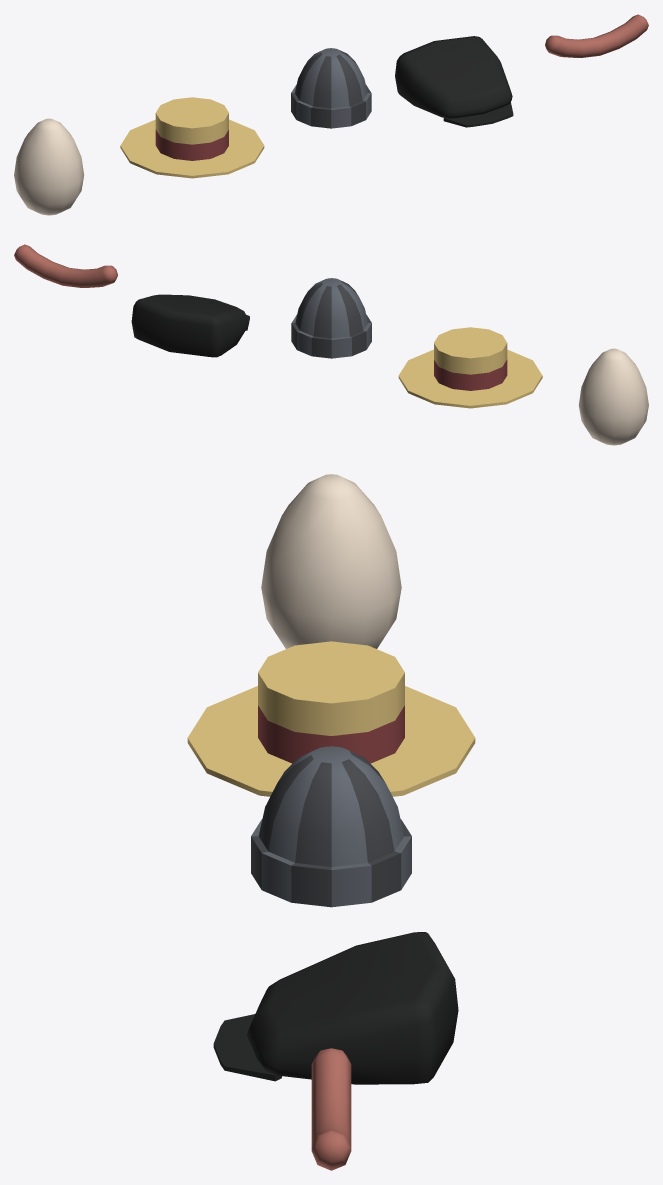
Rendered from Shapki_koshki.fbx.
3 renders of one model, top to bottom at view 1: azimuth 30°, elevation 25°; view 2: azimuth 150°, elevation 25°; view 3: azimuth 270°, elevation 25°, orthographic. The views are drawn at different scales.
Visible parts, largest first — view 1: SM_DL_SHlyapa, SM_DL_Kepka_Bandit, SM_DL_Yaico, SM_DL_Shapka_bandit, SM_DL_Sosiska; view 2: SM_DL_SHlyapa, SM_DL_Kepka_Bandit, SM_DL_Yaico, SM_DL_Shapka_bandit, SM_DL_Sosiska; view 3: SM_DL_SHlyapa, SM_DL_Kepka_Bandit, SM_DL_Shapka_bandit, SM_DL_Yaico, SM_DL_Sosiska.
Boxes of the visible parts, <box> form: SM_DL_SHlyapa: <box>120,97,264,178</box>; SM_DL_Kepka_Bandit: <box>395,36,513,127</box>; SM_DL_Yaico: <box>14,118,84,215</box>; SM_DL_Shapka_bandit: <box>291,48,371,128</box>; SM_DL_Sosiska: <box>545,14,648,57</box>; SM_DL_SHlyapa: <box>398,327,542,408</box>; SM_DL_Kepka_Bandit: <box>131,294,249,357</box>; SM_DL_Yaico: <box>578,348,648,445</box>; SM_DL_Shapka_bandit: <box>291,278,371,358</box>; SM_DL_Sosiska: <box>14,244,117,287</box>; SM_DL_SHlyapa: <box>187,641,475,796</box>; SM_DL_Kepka_Bandit: <box>213,932,458,1084</box>; SM_DL_Shapka_bandit: <box>251,746,411,907</box>; SM_DL_Yaico: <box>261,474,401,648</box>; SM_DL_Sosiska: <box>311,1048,351,1170</box>.
Size of the model in its own units: 3.16 by 0.438 by 0.6258.
